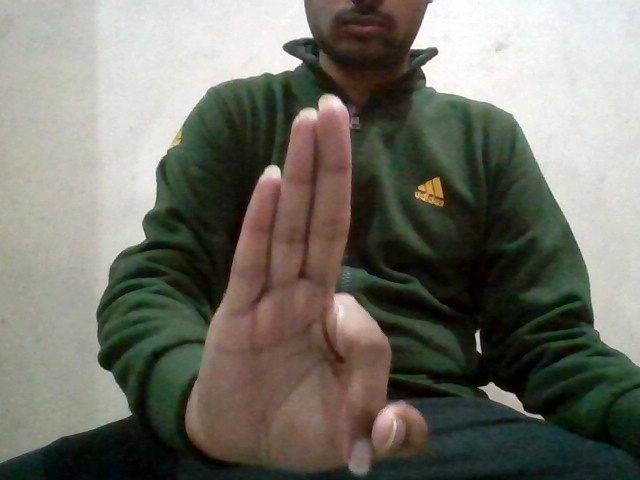F: (197, 87, 441, 479)
